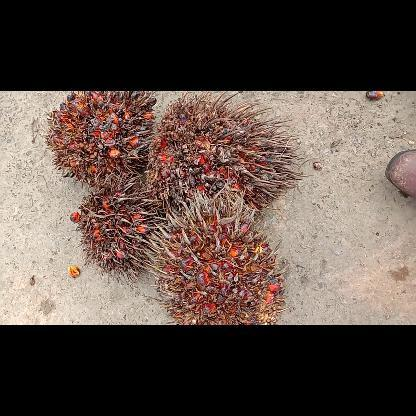Terlalu masak: (146, 180, 290, 324), (143, 91, 304, 219), (80, 169, 172, 289), (40, 90, 158, 182)
